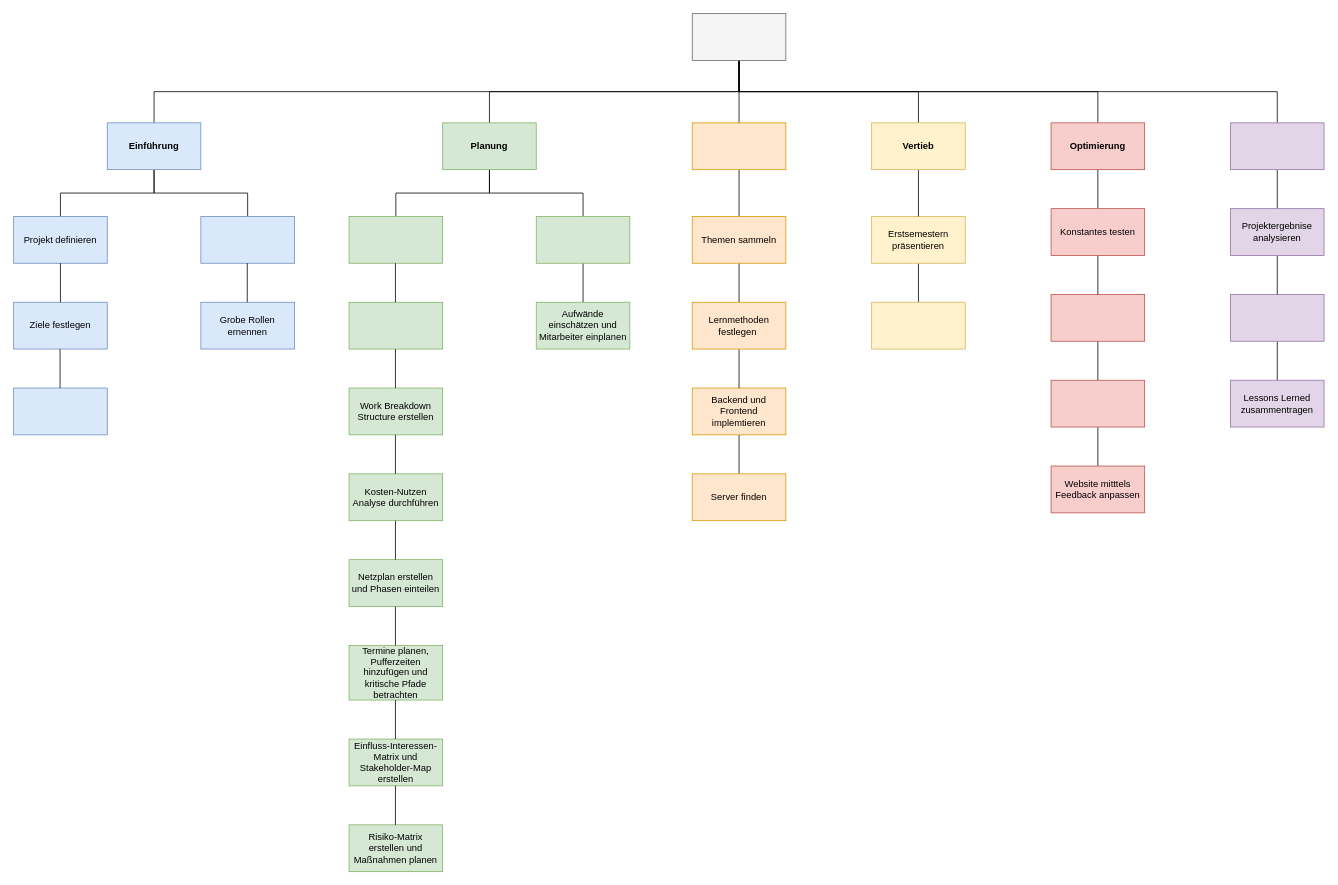
Image size: 1338x885. Some labels were removed from this diagram. Here are the shapes that lost their labels. From the top down, the centre of each, then its label:
the point at 738,36: Proginator
the point at 738,146: Entwicklung
the point at 1277,146: Abschluss
the point at 247,239: Projektleiter ernennen und Team festlegen
the point at 395,239: Projektsteckbrief erstellen
the point at 582,239: Personen, Rollen, Verantwortlichkeiten zuweisen
the point at 395,325: SMART Objective definieren
the point at 918,325: Nutzung von zukünftigen Jahrgängen sichern
the point at 1097,317: Feedback einholen
the point at 1277,317: Projektbericht abschließen
the point at 60,411: Einverständnis des Dozenten erhalten
the point at 1097,403: Bugs fixen
